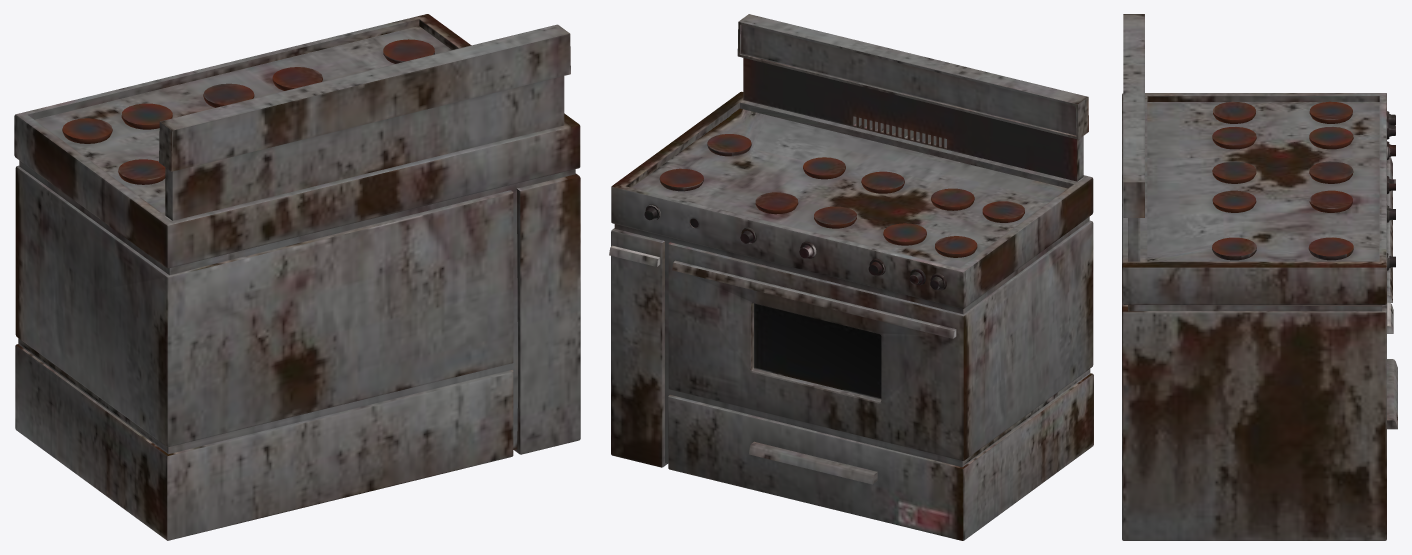
File: range-galley.lod1.glb
The picture shows the model from 3 angles, left to right: view 1: azimuth 30°, elevation 25°; view 2: azimuth 150°, elevation 25°; view 3: azimuth 270°, elevation 25°; orthographic projection. The views are drawn at different scales.
Visible parts, largest first — view 1: range-galley; view 2: range-galley; view 3: range-galley.
Boxes of the visible parts, bbox=[...] form: range-galley: bbox=[14, 14, 580, 540]; range-galley: bbox=[609, 14, 1093, 540]; range-galley: bbox=[1122, 14, 1397, 540].
Bounding box in the file's own units: 1.26 × 1.19 × 0.8386.
1 material, 1 textured.
